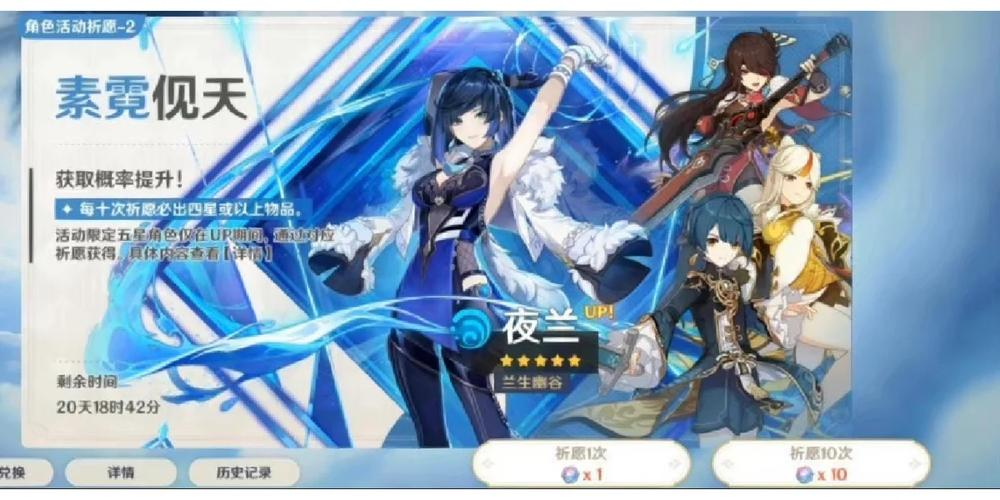夜兰: (391, 42, 611, 458)
